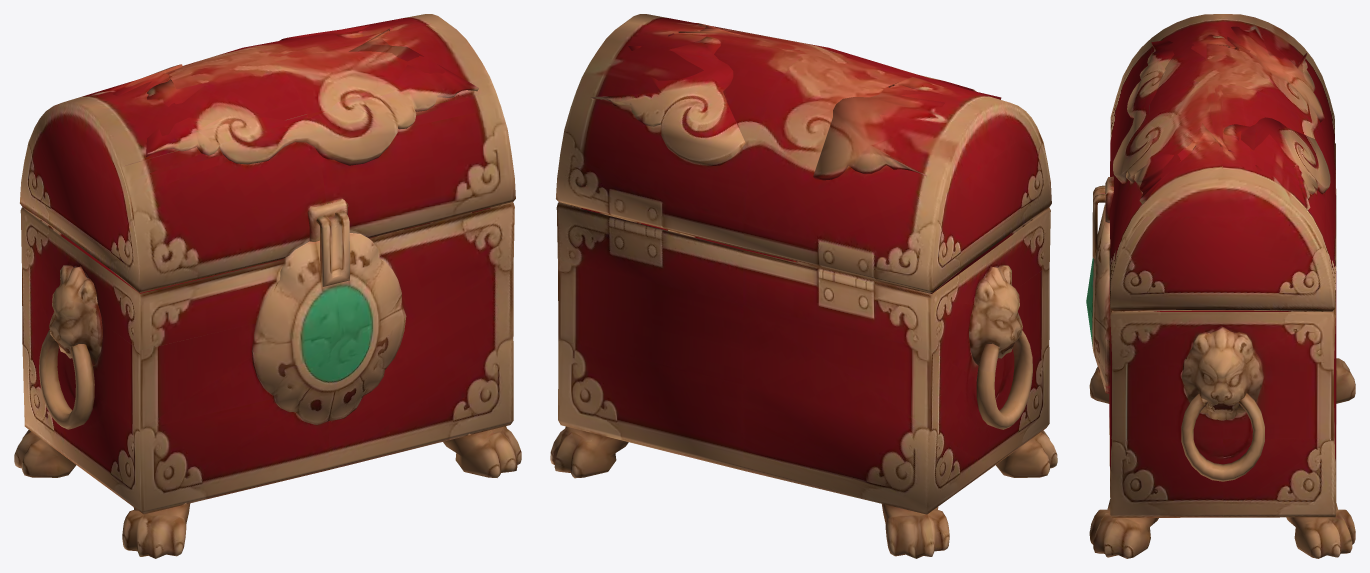
Rendered from SM_Prop_ChestRare.glb.
3 renders of one model, left to right at view 1: azimuth 30°, elevation 25°; view 2: azimuth 150°, elevation 25°; view 3: azimuth 270°, elevation 25°, orthographic. The views are drawn at different scales.
Visible parts, largest first — view 1: SM_Prop_ChestRare_LOD0; view 2: SM_Prop_ChestRare_LOD0; view 3: SM_Prop_ChestRare_LOD0.
Part boxes in pixels (x1,y1,x2,y2): SM_Prop_ChestRare_LOD0: (14,14,521,558); SM_Prop_ChestRare_LOD0: (550,14,1057,558); SM_Prop_ChestRare_LOD0: (1086,14,1355,558).
Bounding box in the file's own units: 1.08 × 1 × 0.6299.
Materials: 1 (1 with a texture image).
